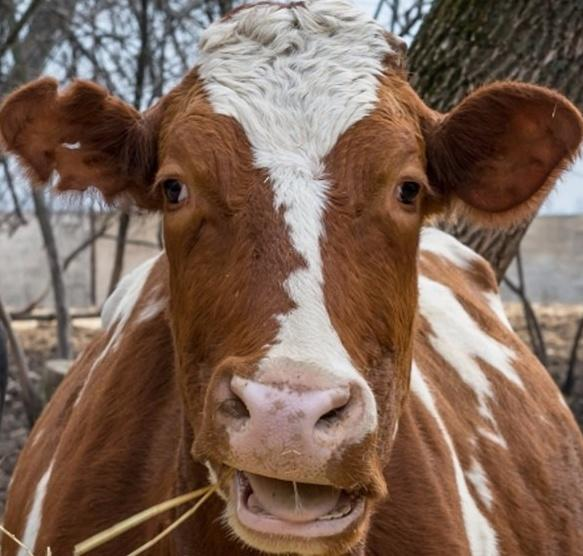muzzles: (171, 355, 397, 556)
